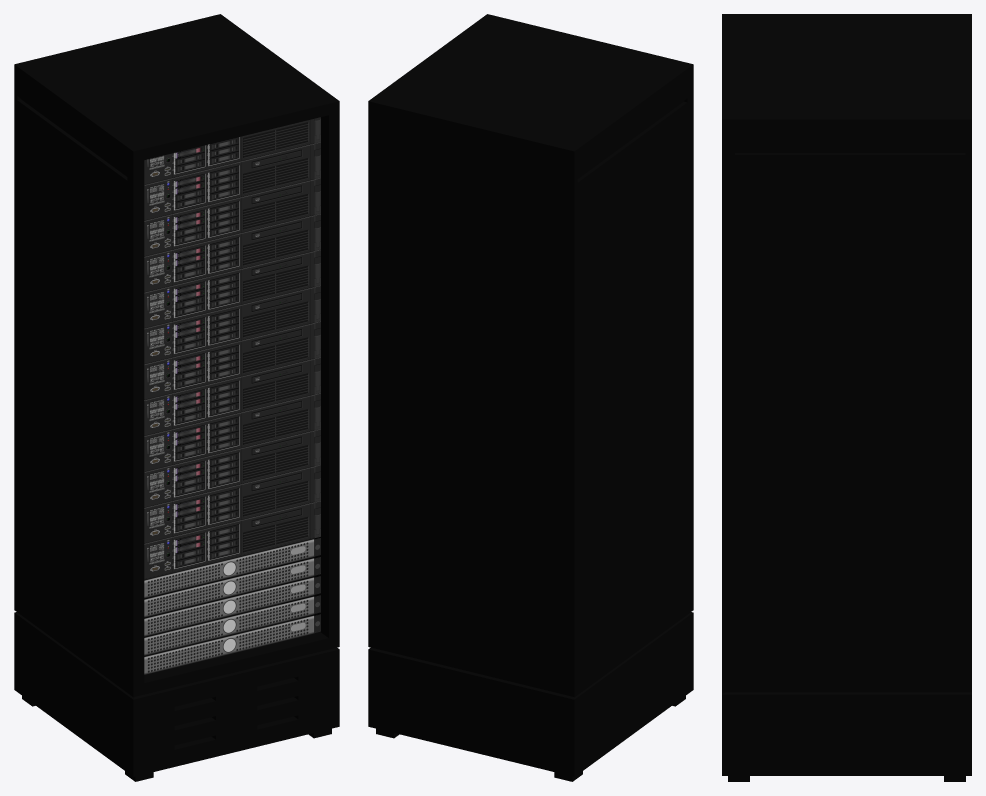
The model's file is server.glb.
3 renders of one model, left to right at view 1: azimuth 30°, elevation 25°; view 2: azimuth 150°, elevation 25°; view 3: azimuth 270°, elevation 25°, orthographic. The views are drawn at different scales.
Visible parts, largest first — view 1: server_rack, rack_unit1, rack_unit2; view 2: server_rack; view 3: server_rack.
Boxes of the visible parts, x1,y1,x2,y2 form: server_rack: (14, 14, 339, 781); rack_unit1: (144, 117, 320, 579); rack_unit2: (144, 538, 320, 674); server_rack: (368, 14, 693, 781); server_rack: (722, 14, 971, 781).
Bounding box in the file's own units: 0.7 × 2.05 × 0.7.
5 materials, 2 textured.
